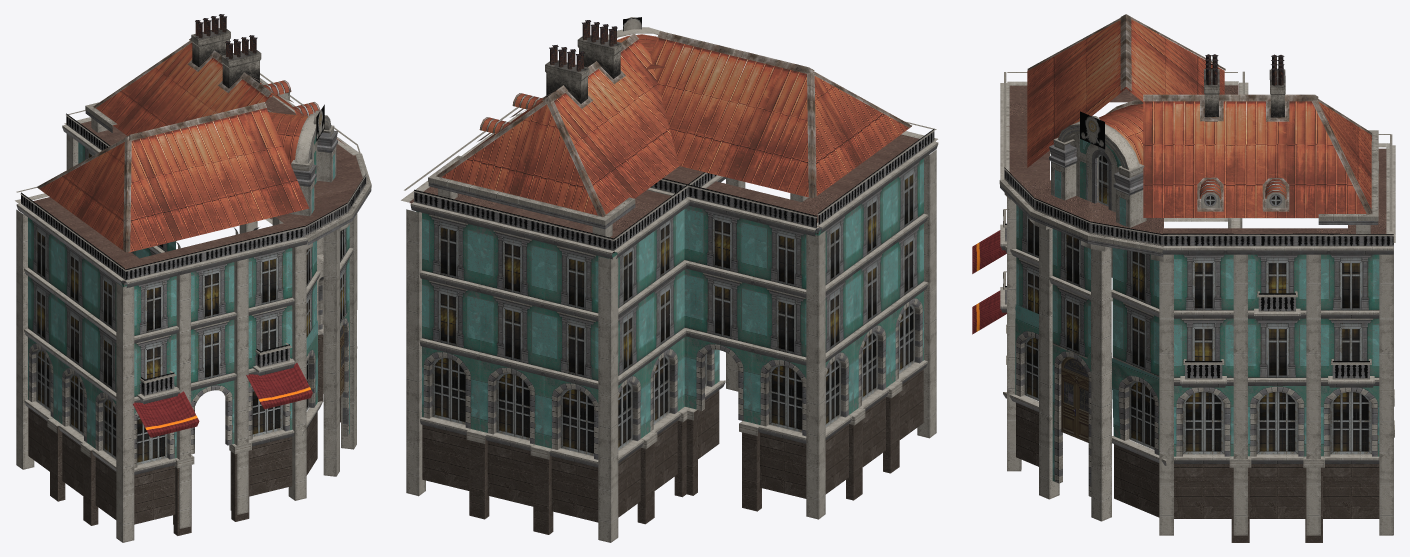
File: tier2_city_corner3.gltf
3 views of the same model, side by side, from view 1: azimuth 30°, elevation 25°; view 2: azimuth 150°, elevation 25°; view 3: azimuth 270°, elevation 25° (orthographic). The views are drawn at different scales.
Visible parts, largest first — view 1: ground-wall.001; view 2: ground-wall.001; view 3: ground-wall.001.
Part boxes in pixels (x1=…): ground-wall.001: x1=15, y1=14, x2=371, y2=542; ground-wall.001: x1=401, y1=17, x2=938, y2=542; ground-wall.001: x1=972, y1=14, x2=1395, y2=542.
Bounding box in the file's own units: 2.51 × 3.01 × 2.68.
1 material, 1 textured.
